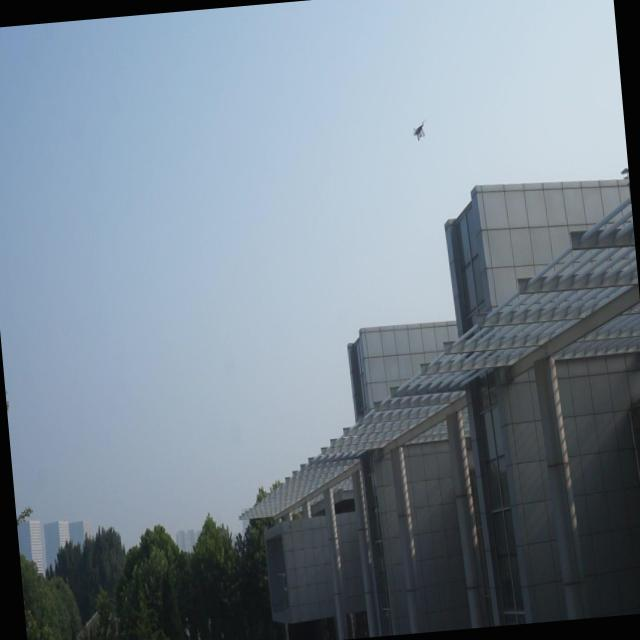drone: (408, 114, 429, 146)
